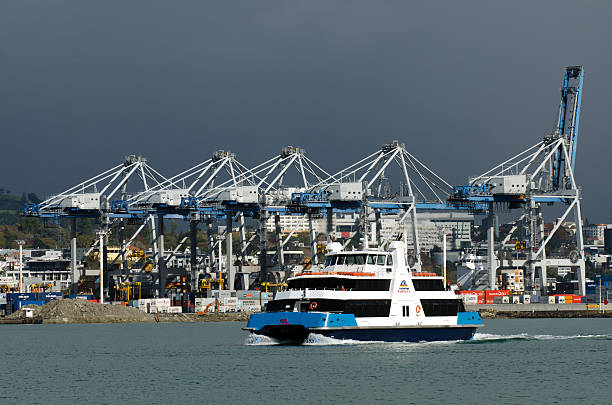ferry: (242, 240, 485, 342)
